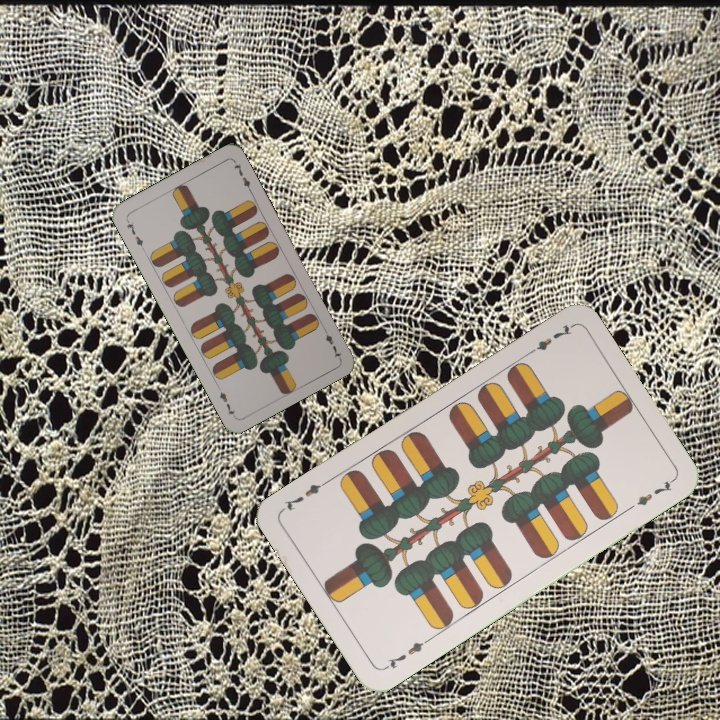E7: (522, 320, 575, 359), (380, 634, 433, 672), (122, 216, 147, 253), (319, 323, 343, 361)
